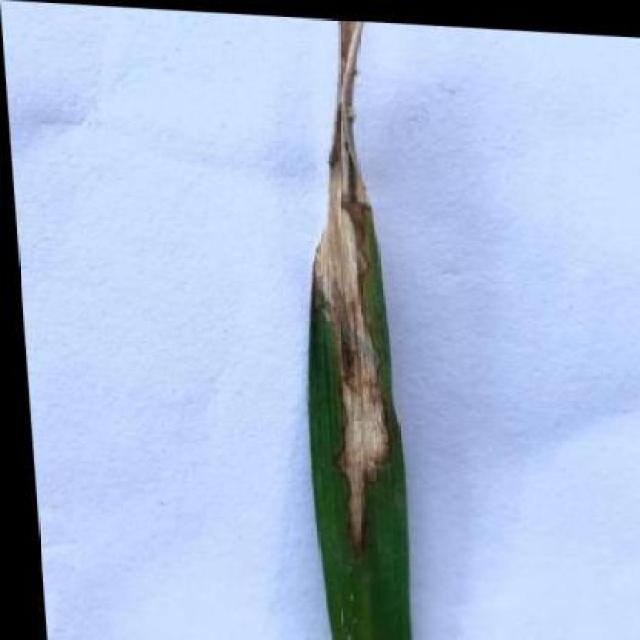Brown_Spot: (272, 12, 419, 640)
